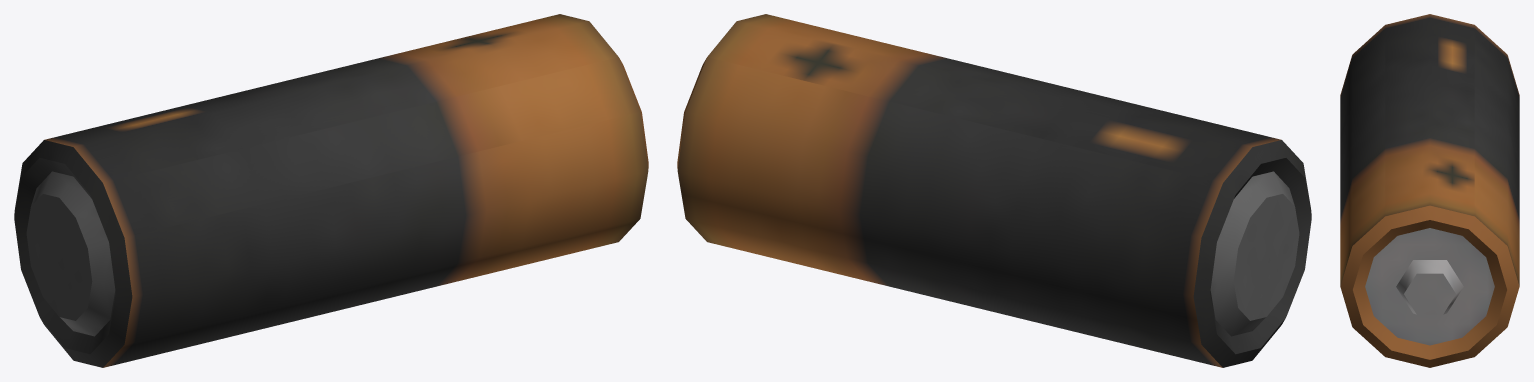
The model's file is battery_mp_1.dae.
The picture shows the model from 3 angles, left to right: view 1: azimuth 30°, elevation 25°; view 2: azimuth 150°, elevation 25°; view 3: azimuth 270°, elevation 25°; orthographic projection. The views are drawn at different scales.
Visible parts, largest first — view 1: battery_mp_1; view 2: battery_mp_1; view 3: battery_mp_1.
Part boxes in pixels (bbox=[...]): battery_mp_1: bbox=[14, 14, 648, 367]; battery_mp_1: bbox=[677, 14, 1311, 367]; battery_mp_1: bbox=[1340, 14, 1519, 367].
Bounding box in the file's own units: 0.097 × 0.036 × 0.036.
1 material, 1 textured.
